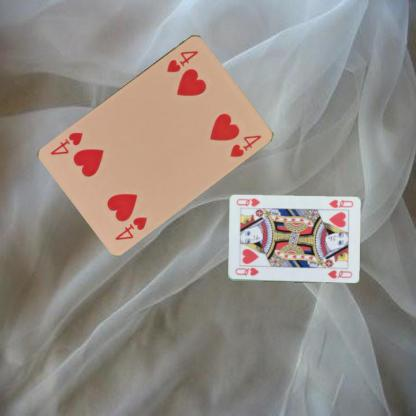4h: (112, 213, 149, 242), (163, 47, 200, 74)
Qh: (327, 197, 354, 209), (232, 266, 260, 277)
